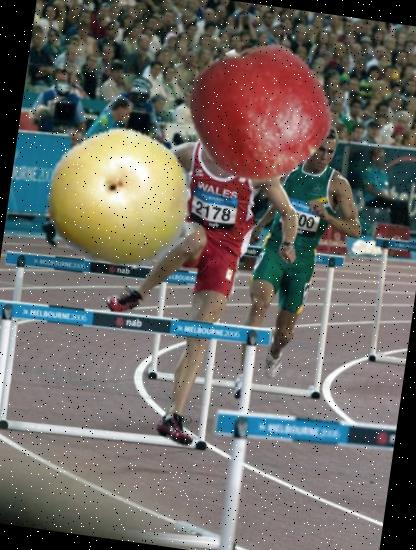Apple: (183, 35, 338, 190)
Maracuja: (35, 118, 201, 284)
